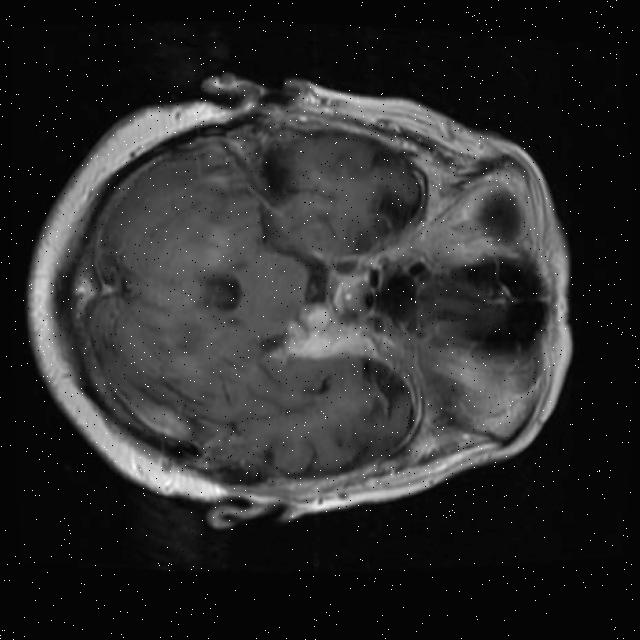Meningioma: (262, 300, 381, 368)
